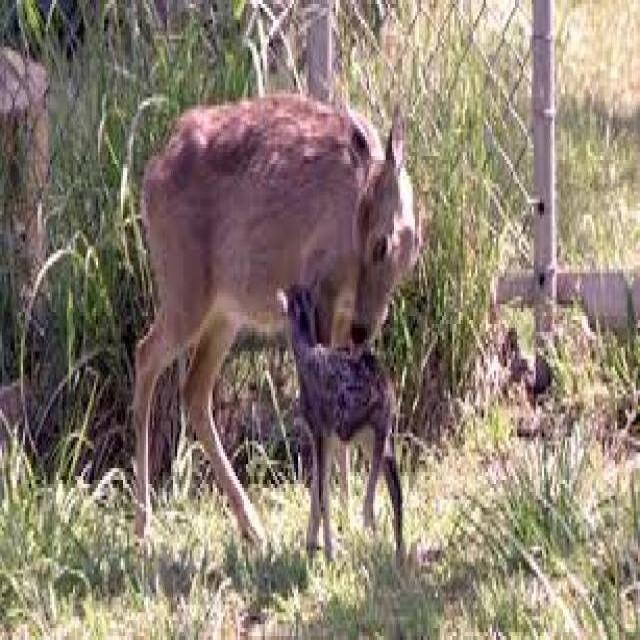deer: (119, 85, 429, 578), (275, 274, 412, 569)
